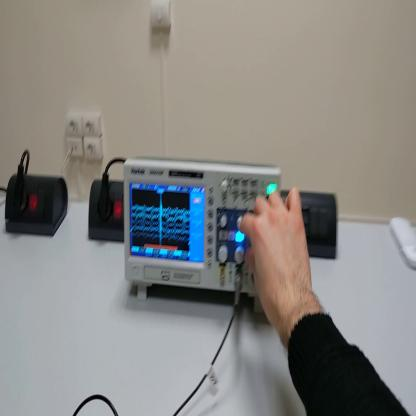hand: (238, 184, 315, 330)
oscilloscope: (125, 151, 287, 311)
socket: (6, 175, 69, 244), (89, 177, 125, 244)
